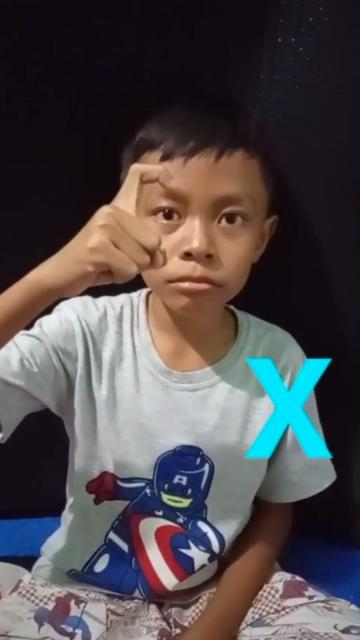X: (67, 162, 177, 308)
